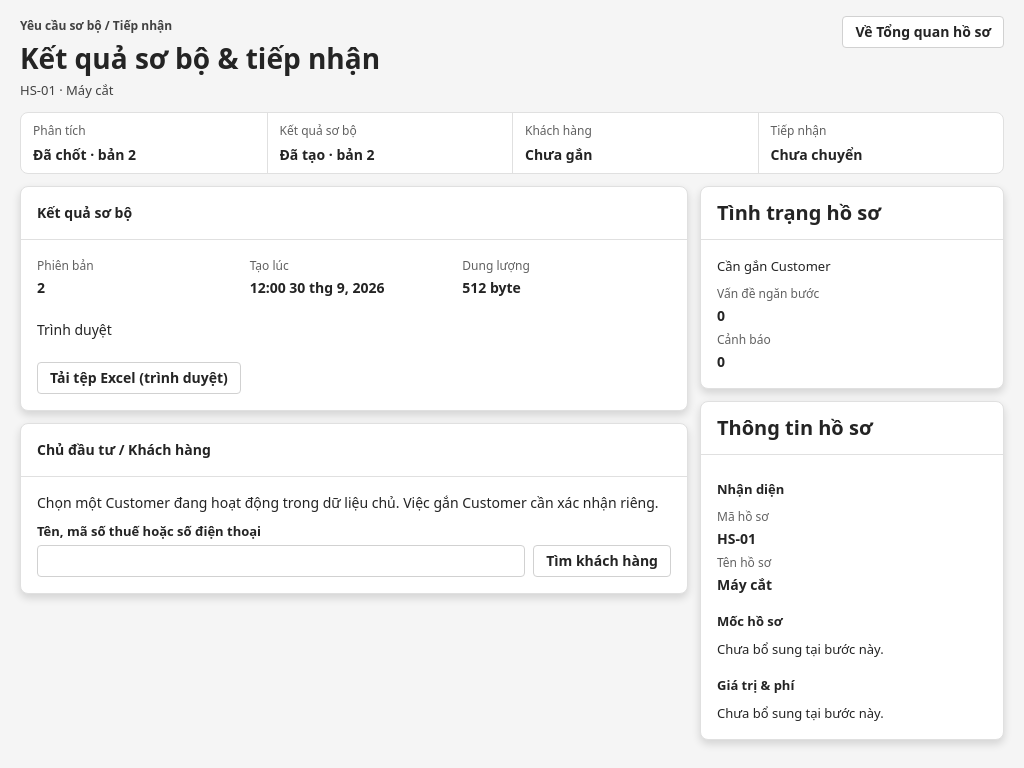
Test case: PreliminaryCompletionPage › selects an active master Customer and requires a separate confirmed bind
The image size is (1024, 768).
Click the button "Tìm khách hàng" at (602, 561), box [533,545,671,577]
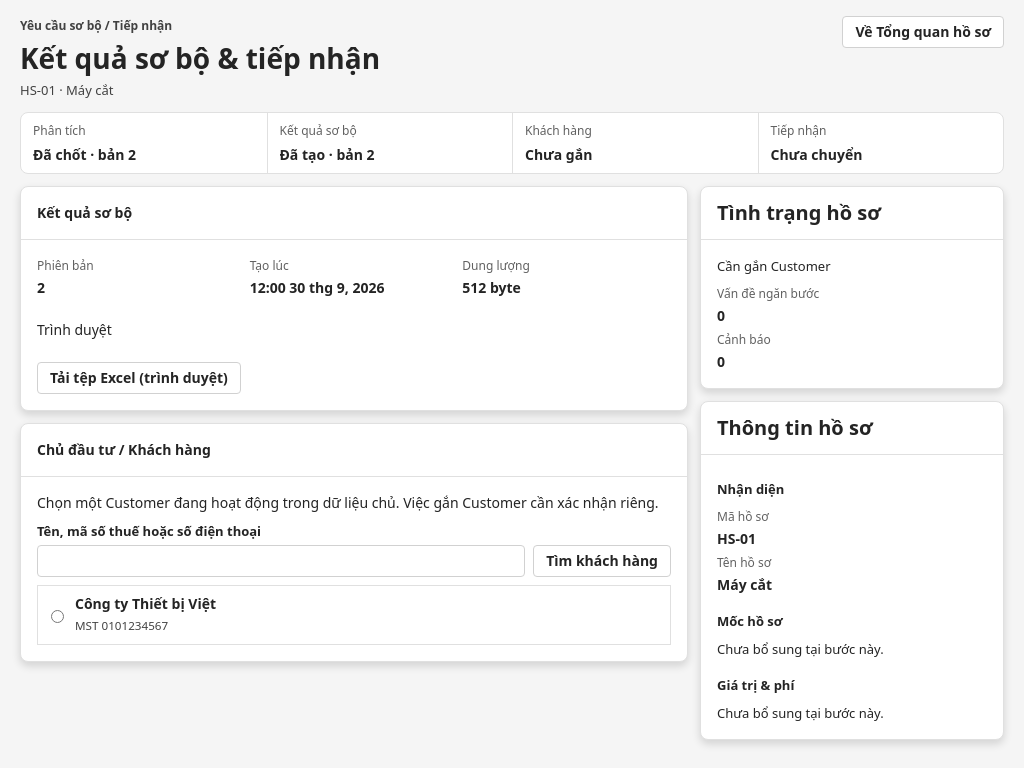
Click the radio button labelled "Công ty Thiết bị Việt MST 0101234567" at (58, 616), box [51,610,64,623]
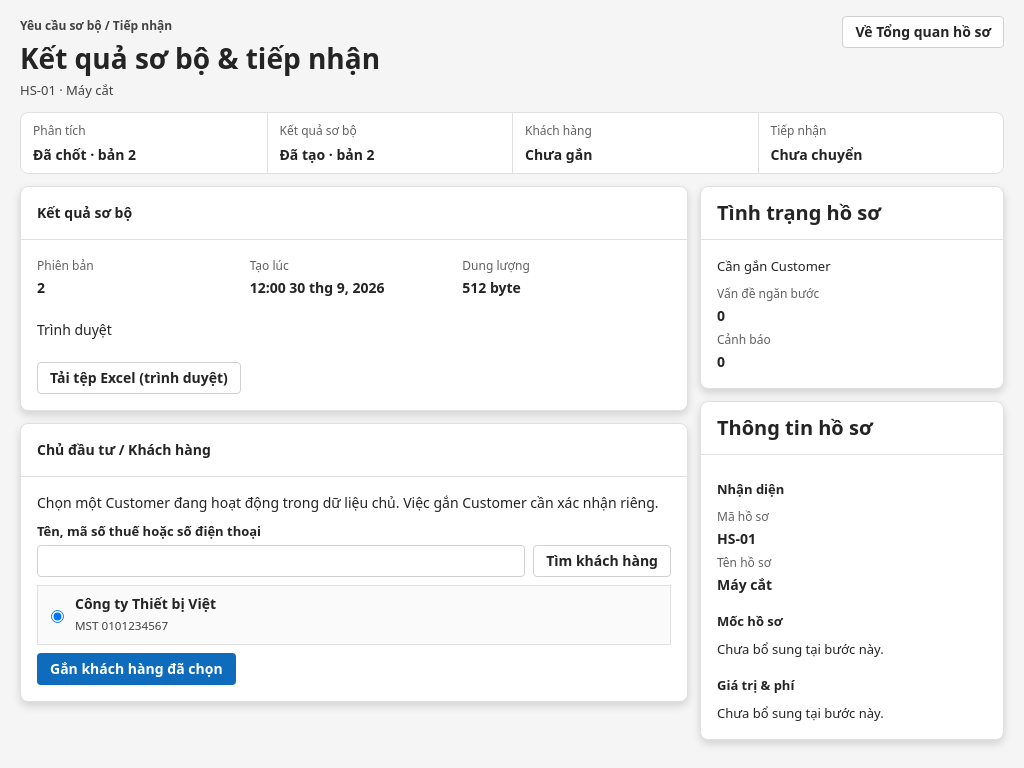
Click the button "Gắn khách hàng đã chọn" at (136, 669), box [37,653,236,685]
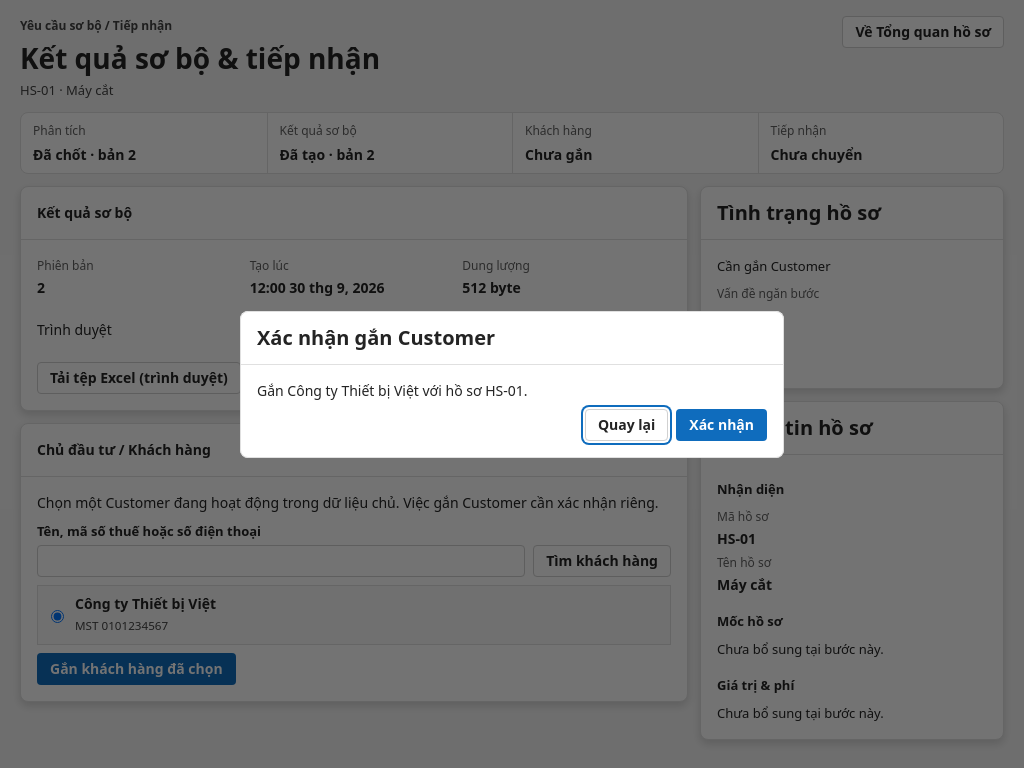
Click the button "Xác nhận" at (722, 424), box [676,408,767,440]
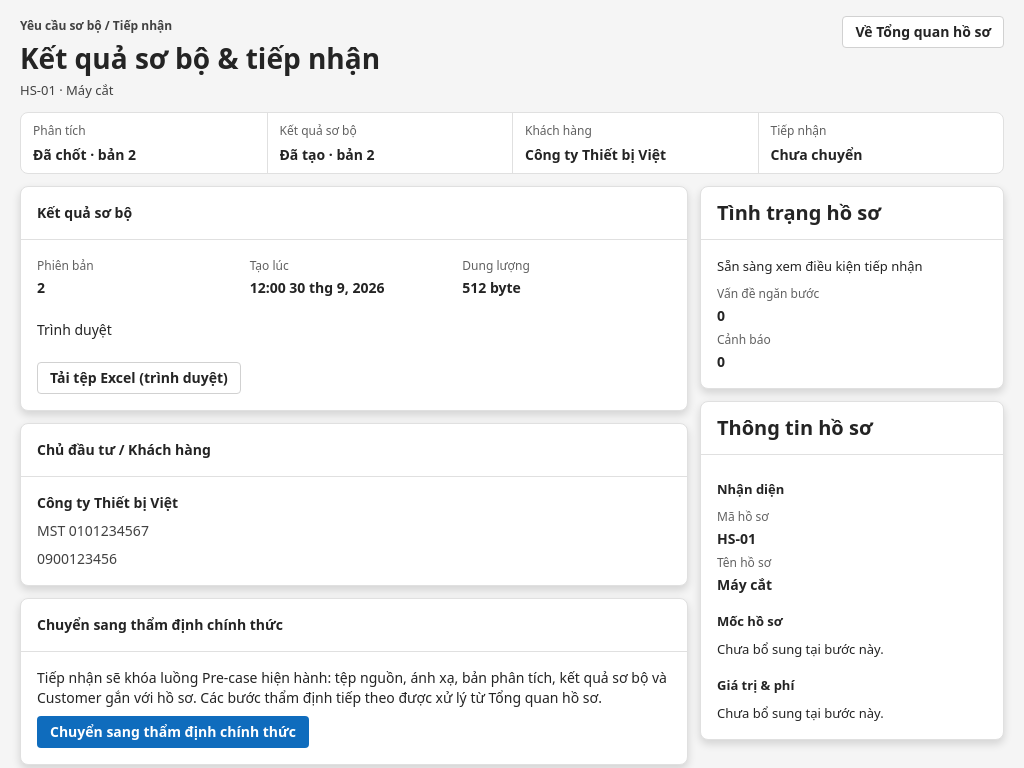
Expected: the button "Chuyển sang thẩm định chính thức" is shown, [37,716,309,748]
